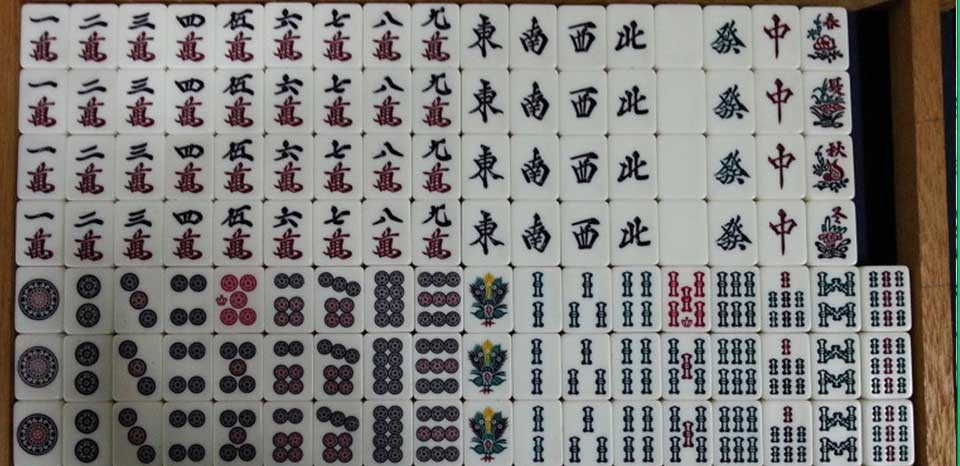honour_1: (465, 199, 513, 263)
honour_2: (513, 131, 563, 201)
honour_3: (554, 69, 607, 135)
honour_4: (604, 1, 652, 70)
honour_5: (652, 70, 706, 133)
honour_6: (706, 131, 761, 199)
honour_7: (761, 201, 807, 265)
man_1: (20, 4, 65, 60)
man_2: (70, 69, 115, 129)
man_3: (116, 1, 166, 63)
man_4: (166, 137, 209, 194)
man_5: (216, 70, 266, 129)
man_6: (266, 3, 313, 60)
man_7: (315, 67, 363, 137)
man_8: (363, 133, 409, 197)
man_9: (413, 70, 461, 133)
pin_1: (15, 267, 61, 331)
pin_2: (61, 335, 113, 406)
pin_3: (113, 401, 172, 466)
pin_4: (163, 270, 216, 337)
pin_5: (211, 335, 265, 404)
pin_6: (268, 335, 313, 404)
pin_7: (316, 269, 368, 335)
pin_8: (365, 331, 415, 399)
pin_9: (416, 269, 466, 328)
pin_aka_5: (211, 267, 268, 340)
sou_1: (461, 335, 516, 401)
sou_2: (514, 399, 568, 466)
sou_3: (558, 267, 616, 335)
sou_4: (613, 331, 663, 401)
sou_5: (661, 401, 709, 466)
sou_6: (713, 265, 765, 333)
sou_7: (768, 333, 811, 403)
sou_8: (815, 329, 856, 401)
sou_9: (857, 267, 911, 331)
sou_aka_5: (657, 265, 715, 333)
